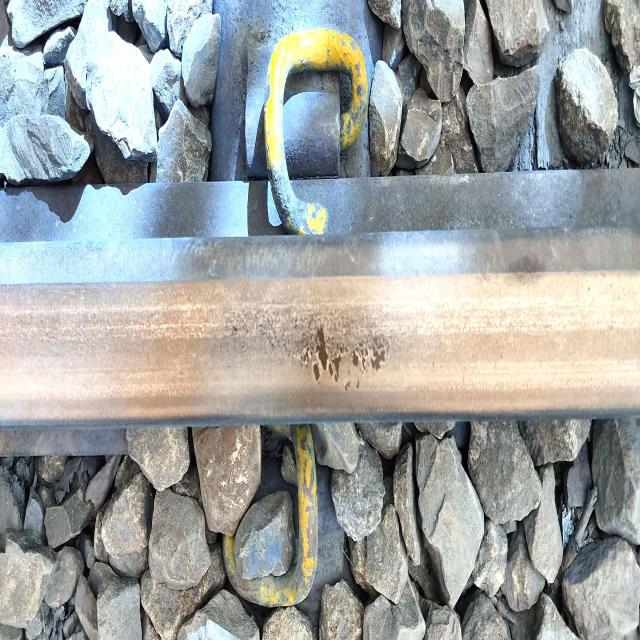Good Fasteners: (236, 0, 364, 237), (220, 416, 343, 607)
